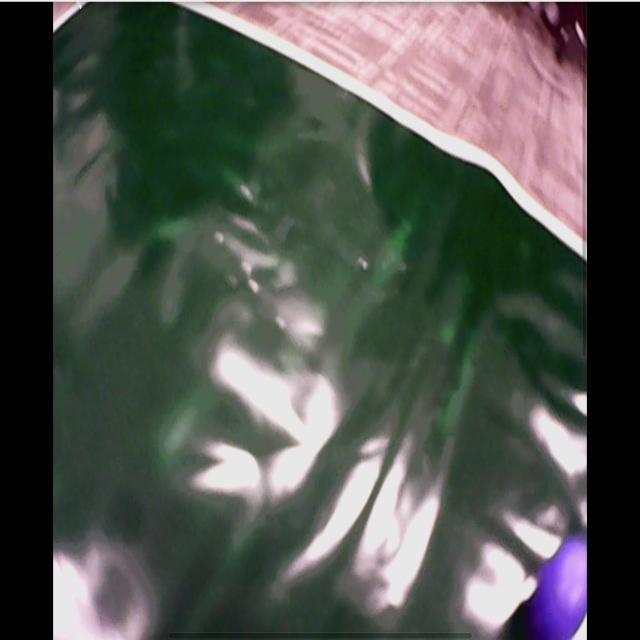ball: (537, 541, 589, 640)
